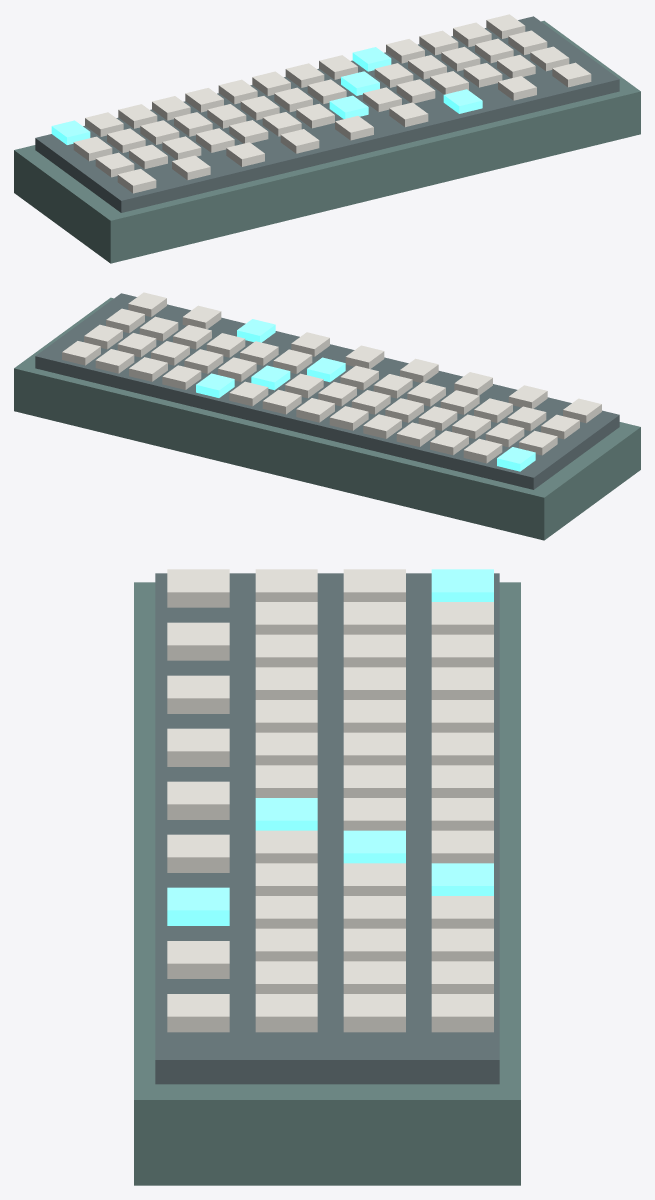
Rendered from s7-e0e1-w05-backlit-keyboard.glb.
The picture shows the model from 3 angles, top to bottom: view 1: azimuth 30°, elevation 25°; view 2: azimuth 150°, elevation 25°; view 3: azimuth 270°, elevation 25°; orthographic projection. The views are drawn at different scales.
Parts seen in each view (by area): view 1: keyboard-chassis-000, key-mat-001, independent-key-050, independent-key-052, independent-key-044, independent-key-047, independent-key-049, independent-key-039, independent-key-041, independent-key-051, independent-key-031, independent-key-036 (+41 smaller); view 2: keyboard-chassis-000, key-mat-001, independent-key-007, independent-key-012, independent-key-003, independent-key-005, independent-key-009, independent-key-010, independent-key-014, independent-key-002, independent-key-004, independent-key-013 (+41 smaller); view 3: key-mat-001, keyboard-chassis-000, independent-key-044, independent-key-045, independent-key-046, independent-key-047, independent-key-048, independent-key-049, independent-key-050, independent-key-052, independent-key-015, independent-key-029 (+41 smaller).
Boxes of the visible parts, x1,y1,x2,y2 form: keyboard-chassis-000: [14, 20, 640, 263]; key-mat-001: [35, 16, 619, 212]; independent-key-050: [443, 89, 482, 113]; independent-key-052: [552, 62, 591, 87]; independent-key-044: [117, 169, 156, 193]; independent-key-047: [280, 129, 319, 153]; independent-key-049: [389, 102, 428, 127]; independent-key-039: [396, 79, 435, 103]; independent-key-041: [463, 63, 502, 87]; independent-key-051: [498, 76, 536, 100]; independent-key-031: [129, 144, 167, 169]; independent-key-036: [296, 103, 334, 128]; keyboard-chassis-000: [14, 297, 640, 540]; key-mat-001: [35, 293, 619, 489]; independent-key-007: [329, 406, 368, 430]; independent-key-012: [162, 365, 201, 389]; independent-key-003: [463, 438, 502, 463]; independent-key-005: [396, 422, 435, 446]; independent-key-009: [262, 389, 301, 414]; independent-key-010: [229, 381, 268, 406]; independent-key-014: [95, 349, 134, 373]; independent-key-002: [497, 447, 535, 471]; independent-key-004: [430, 430, 468, 455]; independent-key-013: [129, 357, 167, 381]; key-mat-001: [155, 573, 499, 1084]; keyboard-chassis-000: [134, 582, 520, 1185]; independent-key-044: [167, 569, 229, 607]; independent-key-045: [167, 622, 229, 660]; independent-key-046: [167, 675, 229, 713]; independent-key-047: [167, 728, 229, 766]; independent-key-048: [167, 781, 229, 819]; independent-key-049: [167, 834, 229, 872]; independent-key-050: [167, 887, 229, 925]; independent-key-052: [167, 994, 229, 1032]; independent-key-015: [431, 994, 493, 1032]; independent-key-029: [343, 994, 405, 1032].
Size of the model in its own units: 0.57 by 0.066 by 0.18.
